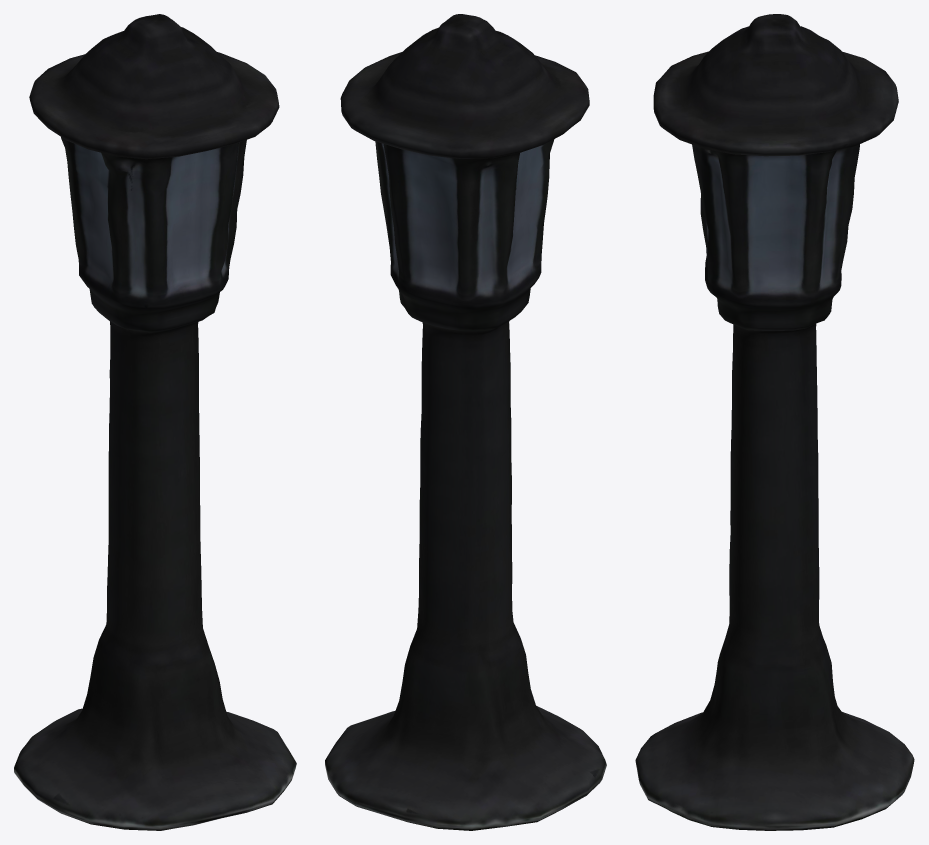
Rendered from farol.obj.
The picture shows the model from 3 angles, left to right: view 1: azimuth 30°, elevation 25°; view 2: azimuth 150°, elevation 25°; view 3: azimuth 270°, elevation 25°; orthographic projection.
Parts seen in each view (by area): view 1: farol; view 2: farol; view 3: farol.
Part boxes in pixels (<box>): farol: <box>14,14,296,830</box>; farol: <box>325,14,606,830</box>; farol: <box>635,14,914,830</box>.
Size of the model in its own units: 1.2 by 3.56 by 1.19.
1 material, 1 textured.
